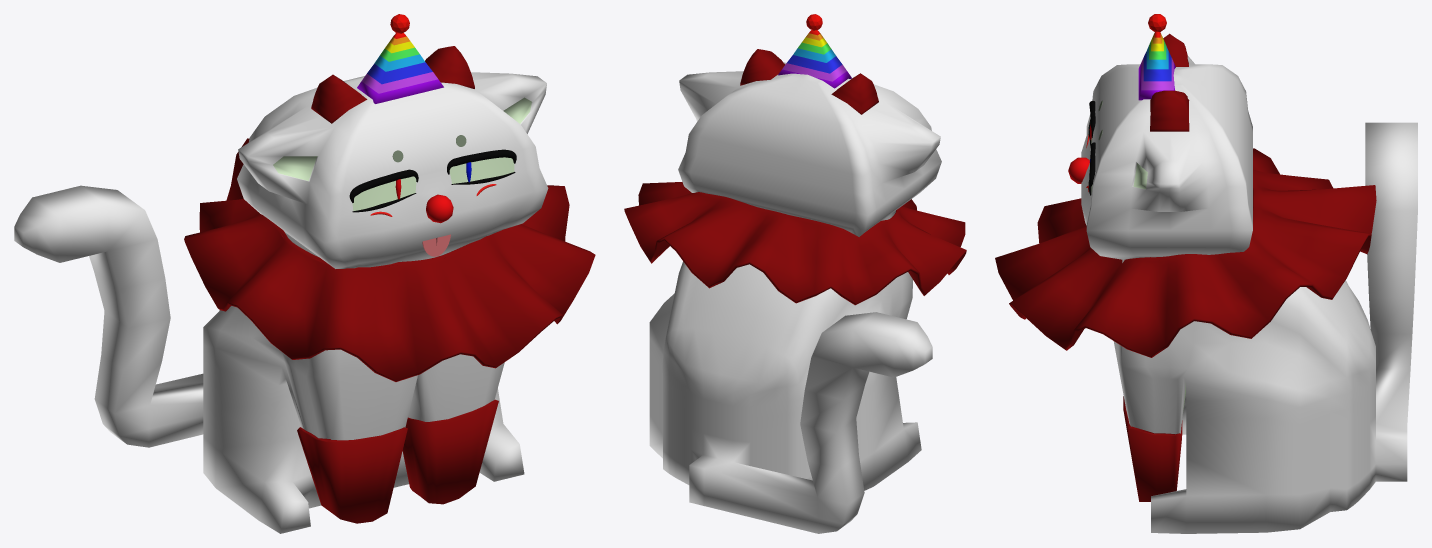
File: ClownCat.fbx
3 renders of one model, left to right at view 1: azimuth 30°, elevation 25°; view 2: azimuth 150°, elevation 25°; view 3: azimuth 270°, elevation 25°, orthographic. The views are drawn at different scales.
Parts seen in each view (by area): view 1: Cube, Cylinder, Cube.004, Cube.005, Cube.003, Cube.001, Cube.002; view 2: Cube, Cylinder, Cube.003, Cube.001, Cube.002; view 3: Cube, Cylinder, Cube.005, Cube.003, Cube.002, Cube.001.
Part boxes in pixels (x1=…): Cube: x1=14, y1=72, x2=548, y2=533; Cylinder: x1=184, y1=138, x2=595, y2=381; Cube.004: x1=297, y1=427, x2=407, y2=523; Cube.005: x1=402, y1=399, x2=498, y2=504; Cube.003: x1=357, y1=14, x2=443, y2=103; Cube.001: x1=311, y1=74, x2=367, y2=123; Cube.002: x1=425, y1=46, x2=474, y2=88; Cube: x1=649, y1=62, x2=941, y2=533; Cylinder: x1=624, y1=182, x2=966, y2=305; Cube.003: x1=778, y1=14, x2=851, y2=88; Cube.001: x1=831, y1=73, x2=878, y2=114; Cube.002: x1=740, y1=49, x2=785, y2=85; Cube: x1=1081, y1=56, x2=1417, y2=533; Cylinder: x1=995, y1=148, x2=1376, y2=357; Cube.005: x1=1123, y1=396, x2=1182, y2=501; Cube.003: x1=1138, y1=14, x2=1175, y2=100; Cube.002: x1=1150, y1=90, x2=1189, y2=131; Cube.001: x1=1163, y1=33, x2=1188, y2=66.
Bounding box in the file's own units: 395 × 419 × 344.
